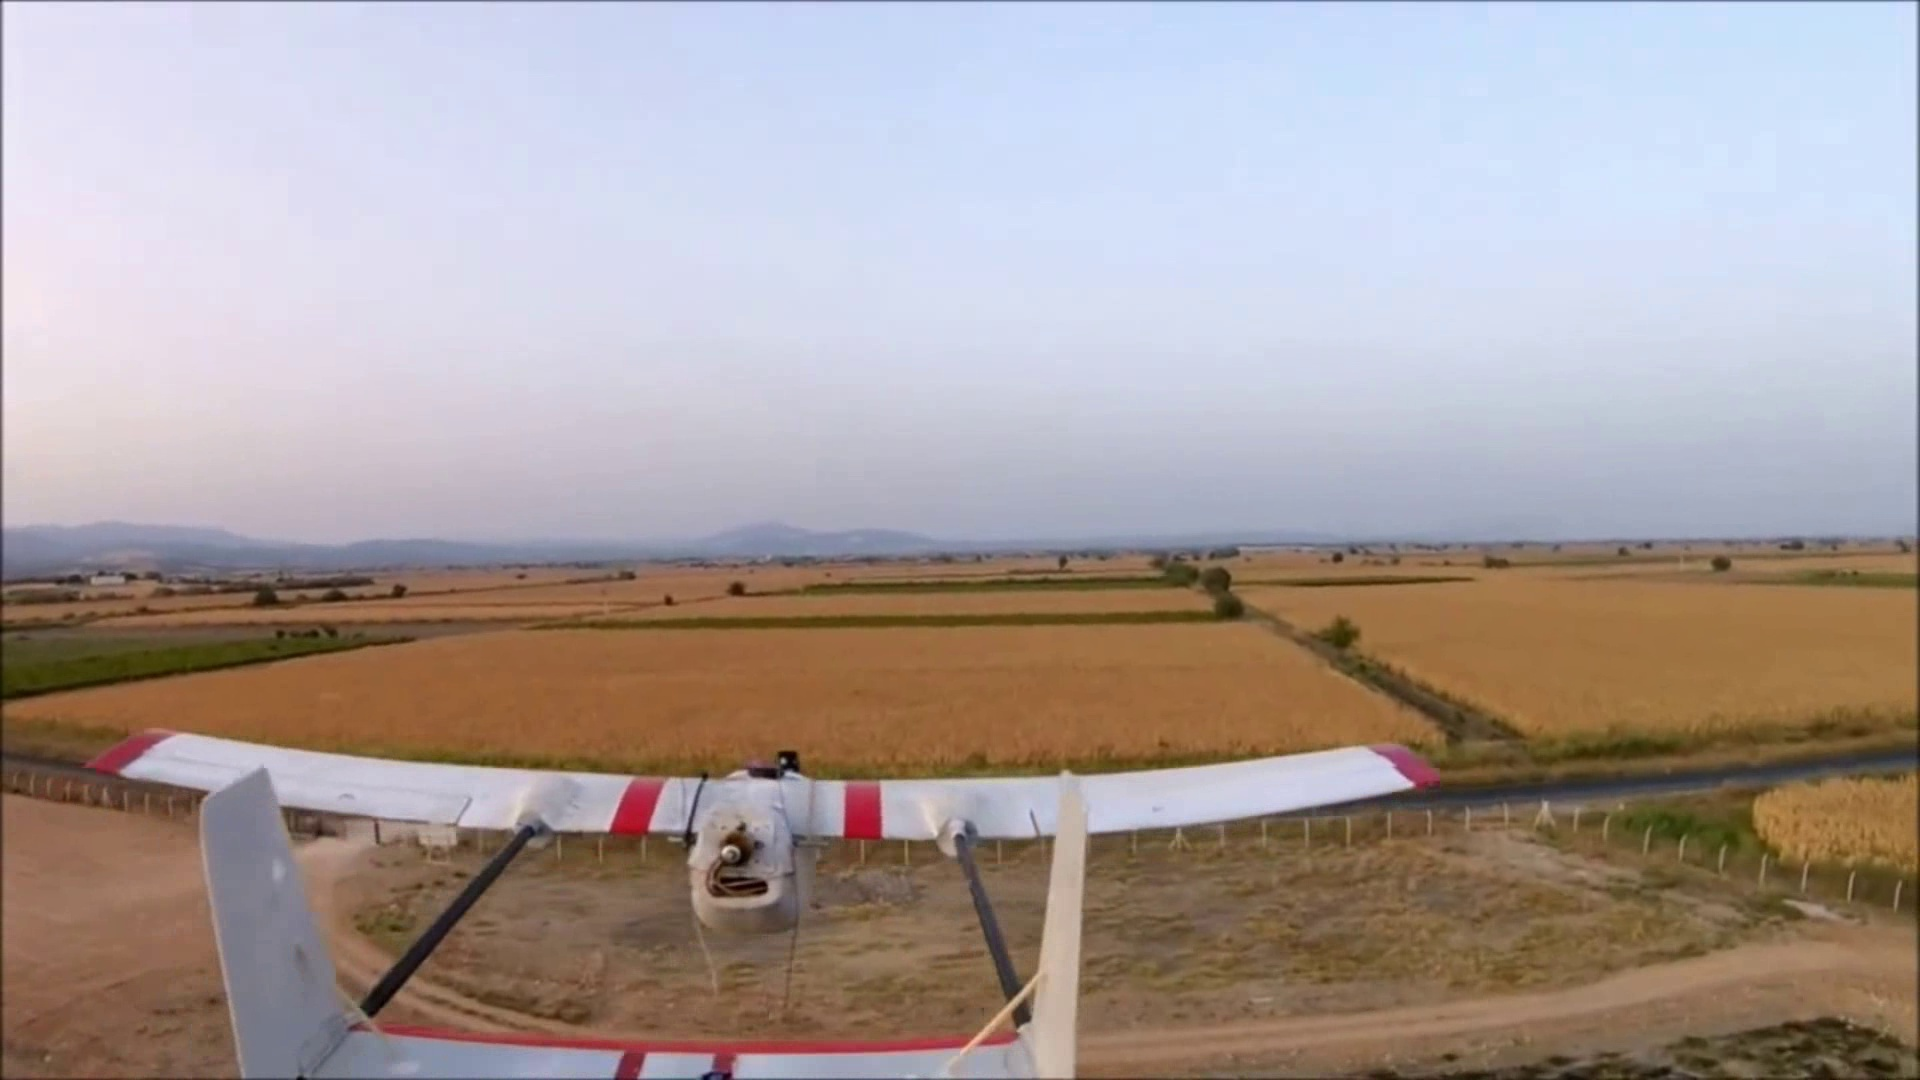airplane: (76, 733, 1444, 1071)
